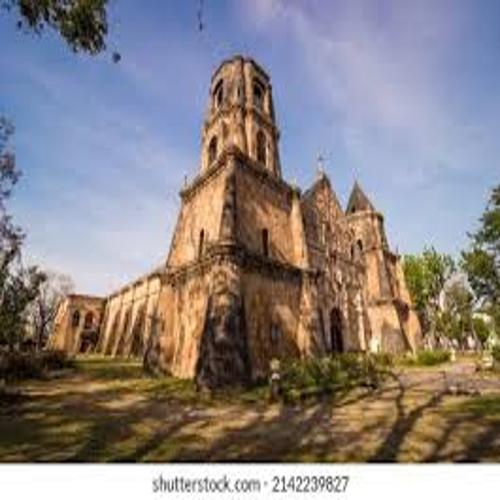Miagao Church: (173, 46, 426, 369)
